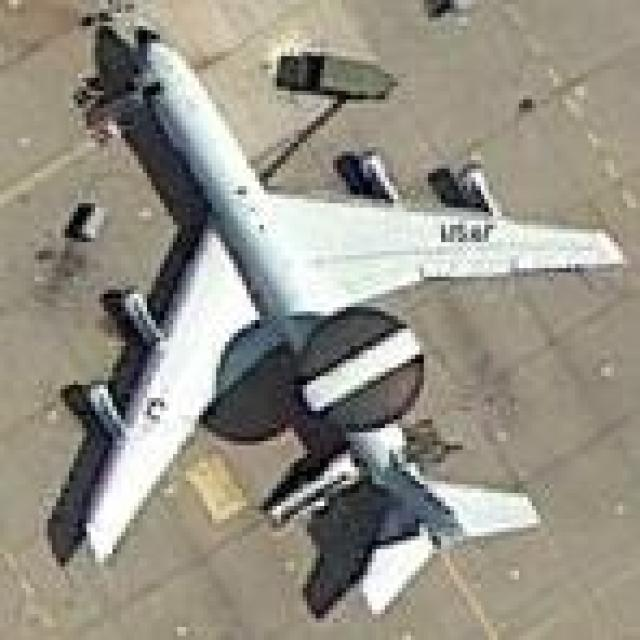E-3_TopDown: (39, 9, 623, 618)
